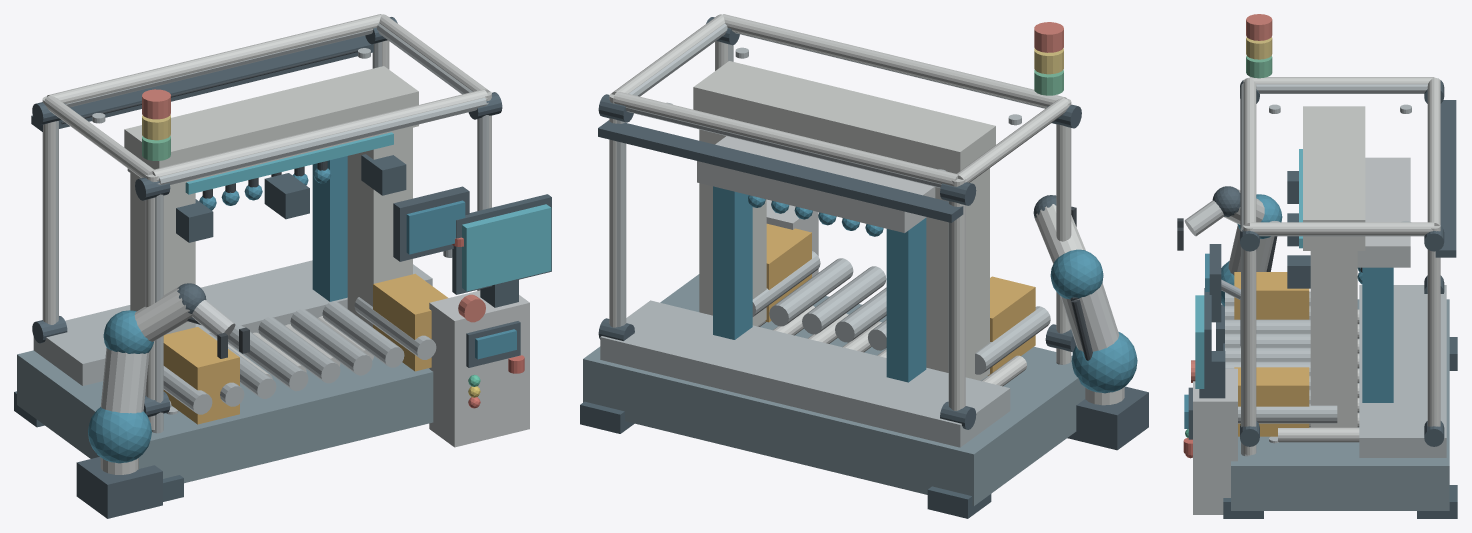
Rendered from intake.glb.
3 views of the same model, side by side, from view 1: azimuth 30°, elevation 25°; view 2: azimuth 150°, elevation 25°; view 3: azimuth 270°, elevation 25° (orthographic). The views are drawn at different scales.
Parts seen in each view (by area): view 1: fabricated_base, scanner_bridge, v9_30, control_plinth, scanner_column_1.8, operator_hmi_screen, v9_24, scanner_column_-1.8, v9_69, v9_20, v9_85, v9_37 (+38 smaller); view 2: fabricated_base, control_plinth, scanner_bridge, scanner_column_-1.8, v9_24, v9_70, v9_68, v9_69, v9_21, v9_20, scanner_column_1.8, v9_37 (+28 smaller); view 3: fabricated_base, control_plinth, scanner_bridge, scanner_column_1.8, v9_30, v9_70, v9_69, v9_86, v9_15, v9_24, v9_23, v9_85 (+34 smaller).
Part boxes in pixels (x1,y1,x2,y2): fabricated_base: [17, 349, 433, 483]; scanner_bridge: [124, 66, 418, 186]; v9_30: [429, 290, 529, 447]; control_plinth: [33, 260, 432, 385]; scanner_column_1.8: [347, 127, 412, 327]; operator_hmi_screen: [462, 204, 551, 291]; v9_24: [31, 35, 373, 131]; scanner_column_-1.8: [130, 170, 195, 334]; v9_69: [312, 156, 347, 301]; v9_20: [47, 14, 381, 103]; v9_85: [163, 327, 239, 424]; v9_37: [76, 457, 162, 518]; fabricated_base: [583, 274, 1085, 506]; control_plinth: [600, 300, 1010, 447]; scanner_bridge: [693, 61, 995, 173]; scanner_column_-1.8: [926, 168, 989, 380]; v9_24: [598, 120, 963, 222]; v9_70: [697, 136, 935, 232]; v9_68: [886, 218, 926, 382]; v9_69: [713, 186, 752, 339]; v9_21: [722, 14, 1066, 107]; v9_20: [613, 92, 957, 185]; scanner_column_1.8: [699, 129, 766, 326]; v9_37: [1067, 386, 1148, 450]; fabricated_base: [1231, 299, 1449, 510]; control_plinth: [1359, 285, 1446, 457]; scanner_bridge: [1303, 106, 1365, 250]; scanner_column_1.8: [1310, 251, 1357, 427]; v9_30: [1193, 368, 1237, 514]; v9_70: [1357, 157, 1410, 267]; v9_69: [1362, 267, 1393, 402]; v9_86: [1234, 367, 1309, 436]; v9_15: [1243, 225, 1256, 455]; v9_24: [1435, 100, 1456, 257]; v9_23: [1250, 222, 1434, 235]; v9_85: [1234, 272, 1309, 319].
Bounding box in the file's own units: 7.25 × 6.15 × 4.48.
